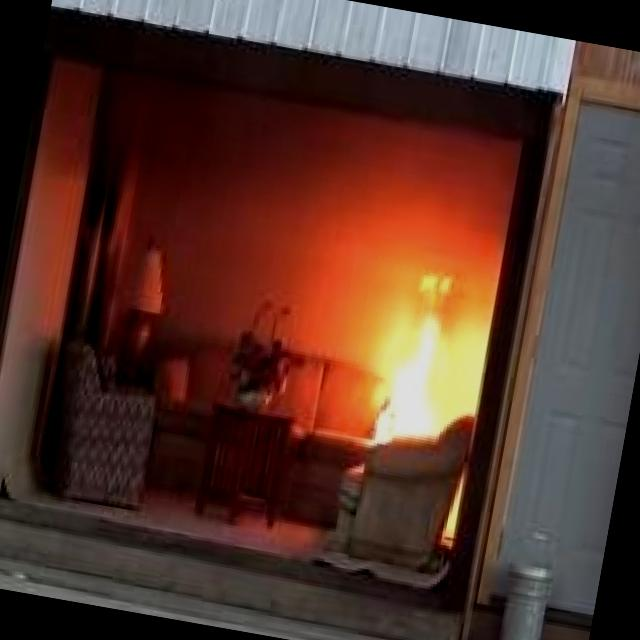fire: (320, 229, 505, 432)
